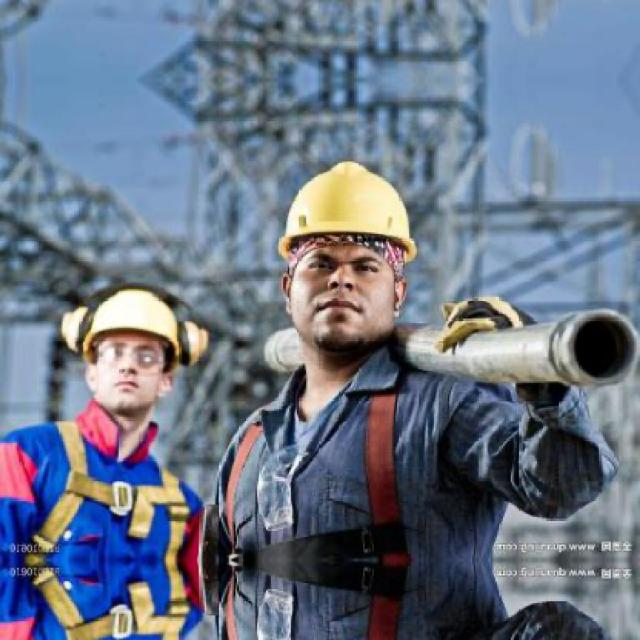helmet: (271, 132, 432, 385), (57, 274, 206, 426)
